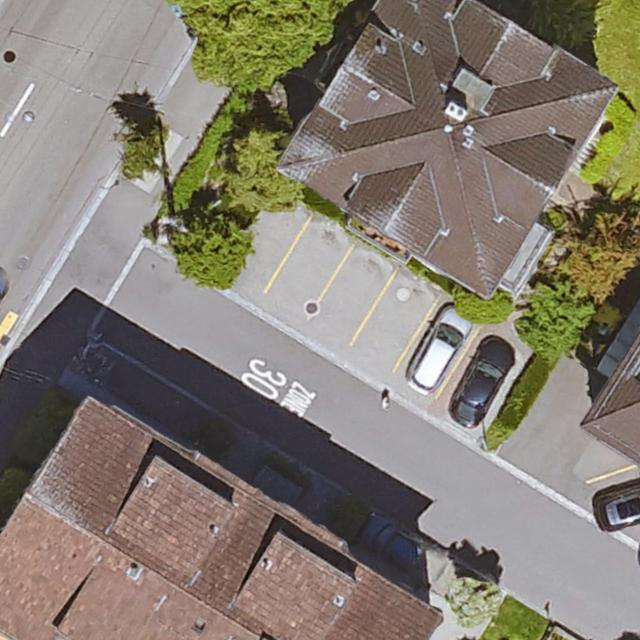tree: (168, 0, 351, 86), (552, 207, 640, 300), (219, 128, 306, 211), (172, 212, 254, 287), (521, 284, 589, 356), (115, 118, 163, 178), (451, 576, 500, 631)
